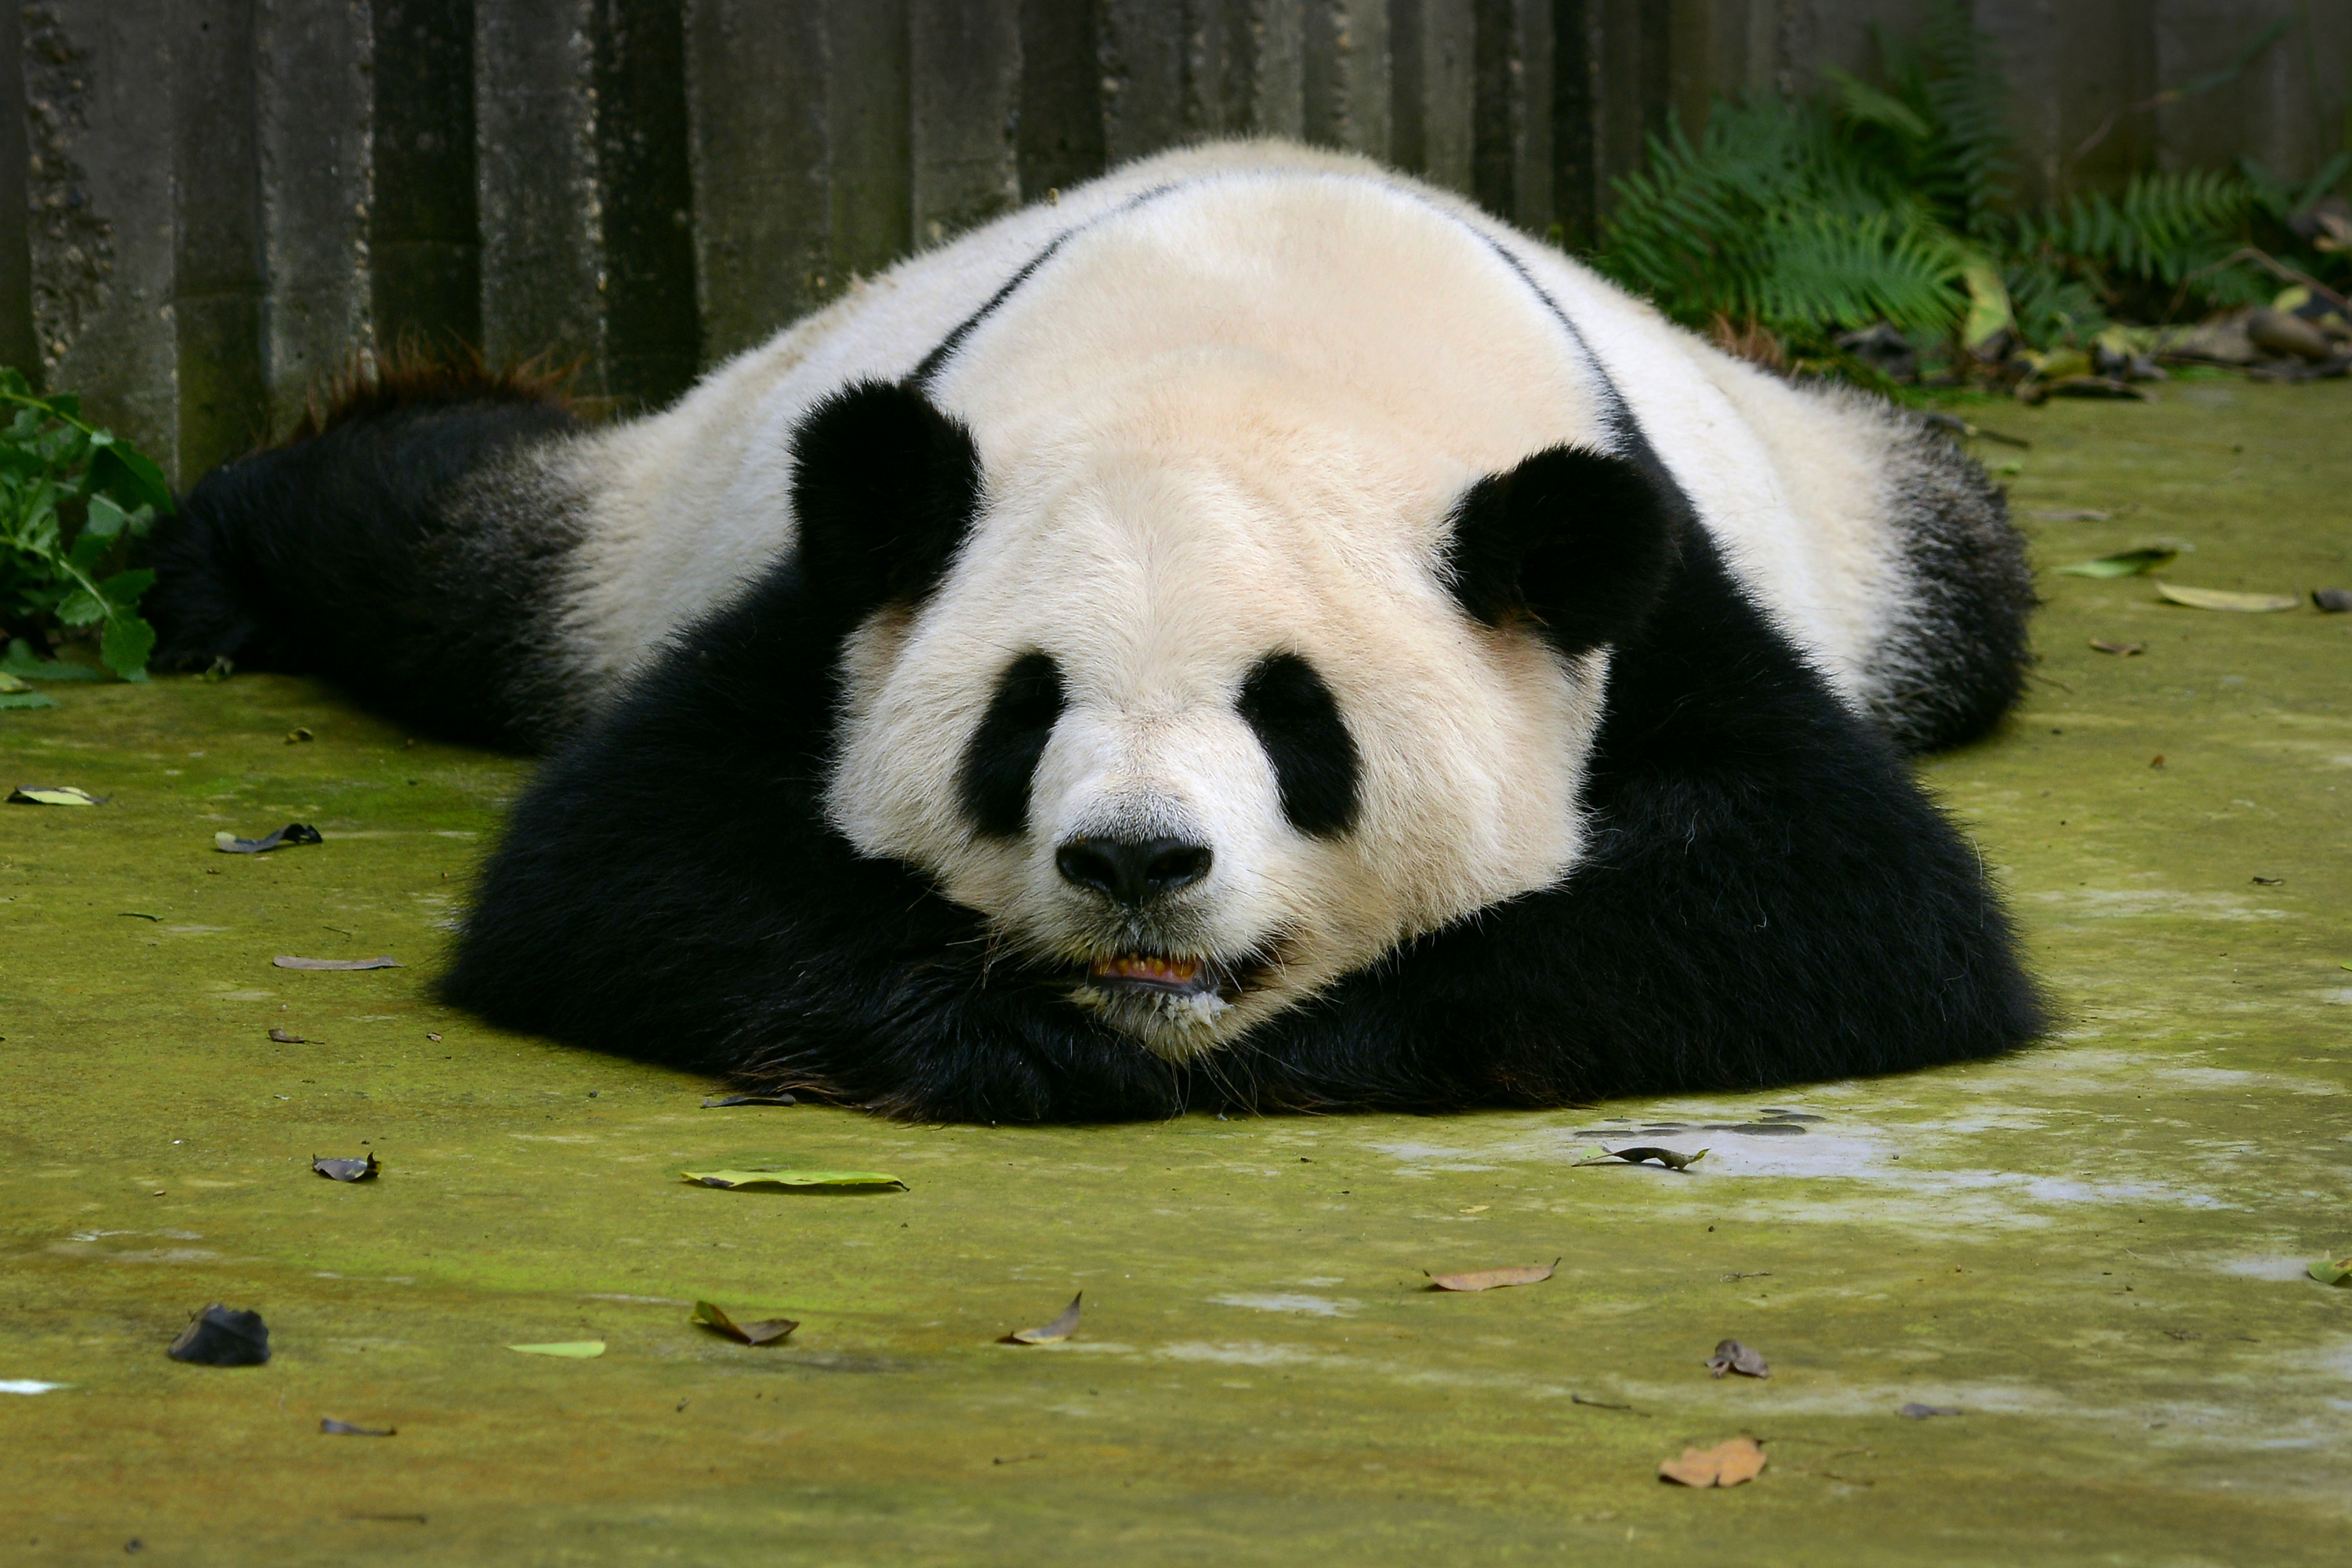panda: (138, 96, 2103, 1197)
